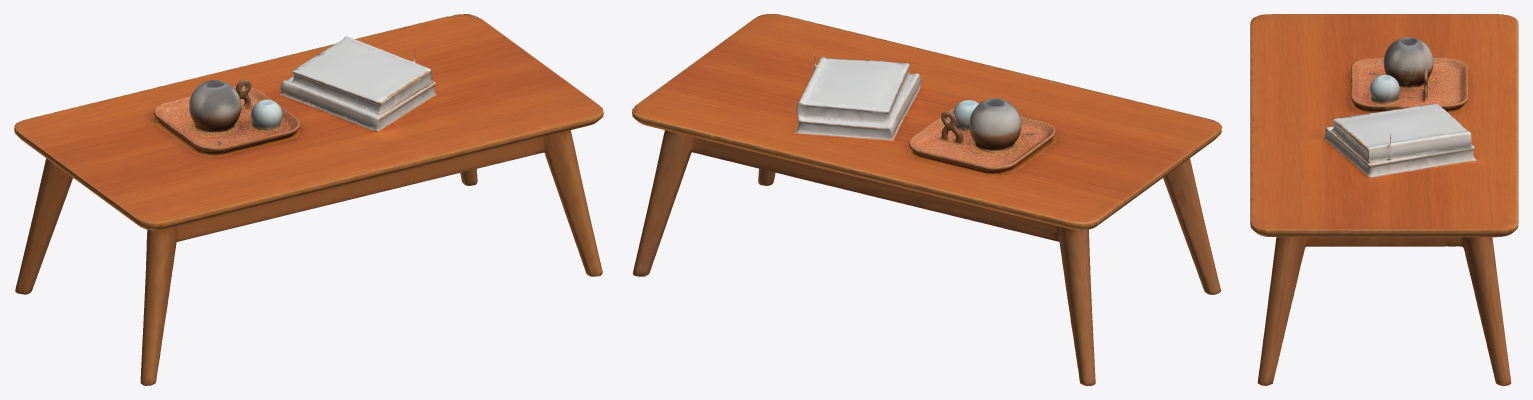
Rendered from ortasehpa.fbx.
The picture shows the model from 3 angles, left to right: view 1: azimuth 30°, elevation 25°; view 2: azimuth 150°, elevation 25°; view 3: azimuth 270°, elevation 25°; orthographic projection. The views are drawn at different scales.
Parts seen in each view (by area): view 1: Mesh_0; view 2: Mesh_0; view 3: Mesh_0.
Boxes of the visible parts, bbox=[...] form: Mesh_0: bbox=[14, 14, 603, 385]; Mesh_0: bbox=[632, 14, 1221, 385]; Mesh_0: bbox=[1250, 14, 1518, 385].
Size of the model in its own units: 191 by 82.64 by 100.
1 material, 1 textured.
